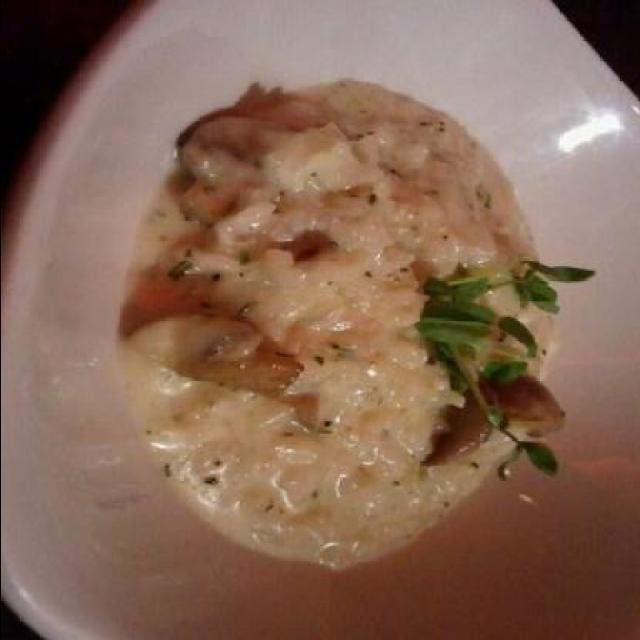Risotto: (140, 77, 544, 548)
